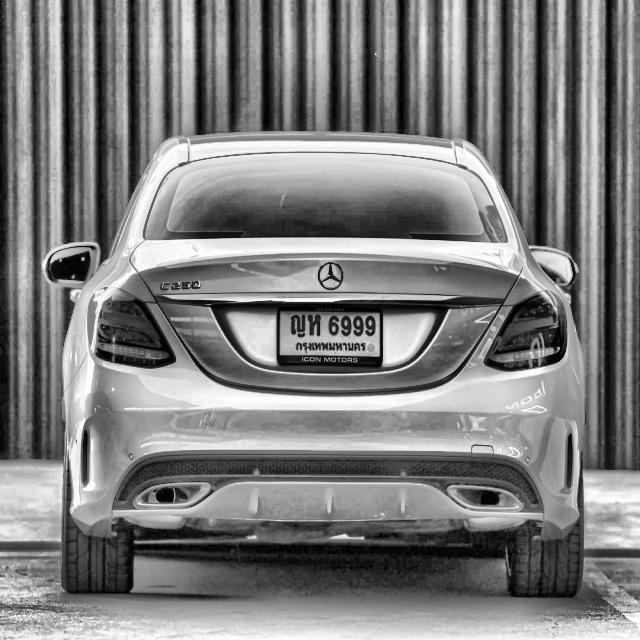license-plate: (276, 304, 384, 367)
